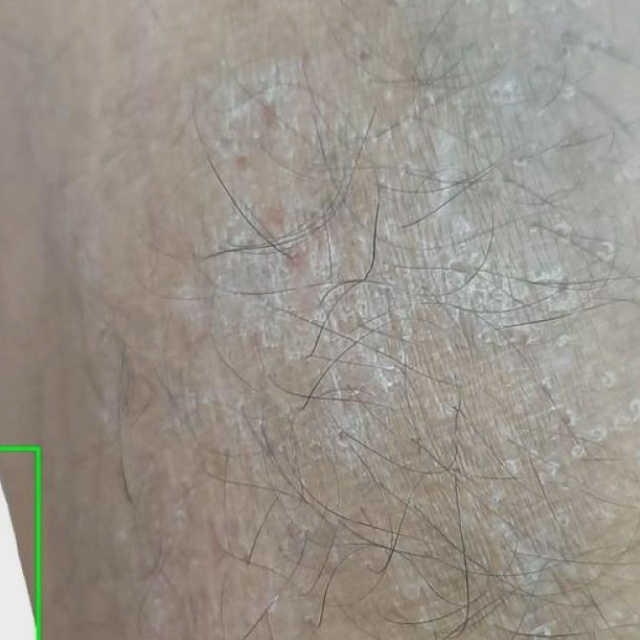Contact Dermatitis: (0, 448, 38, 639)
